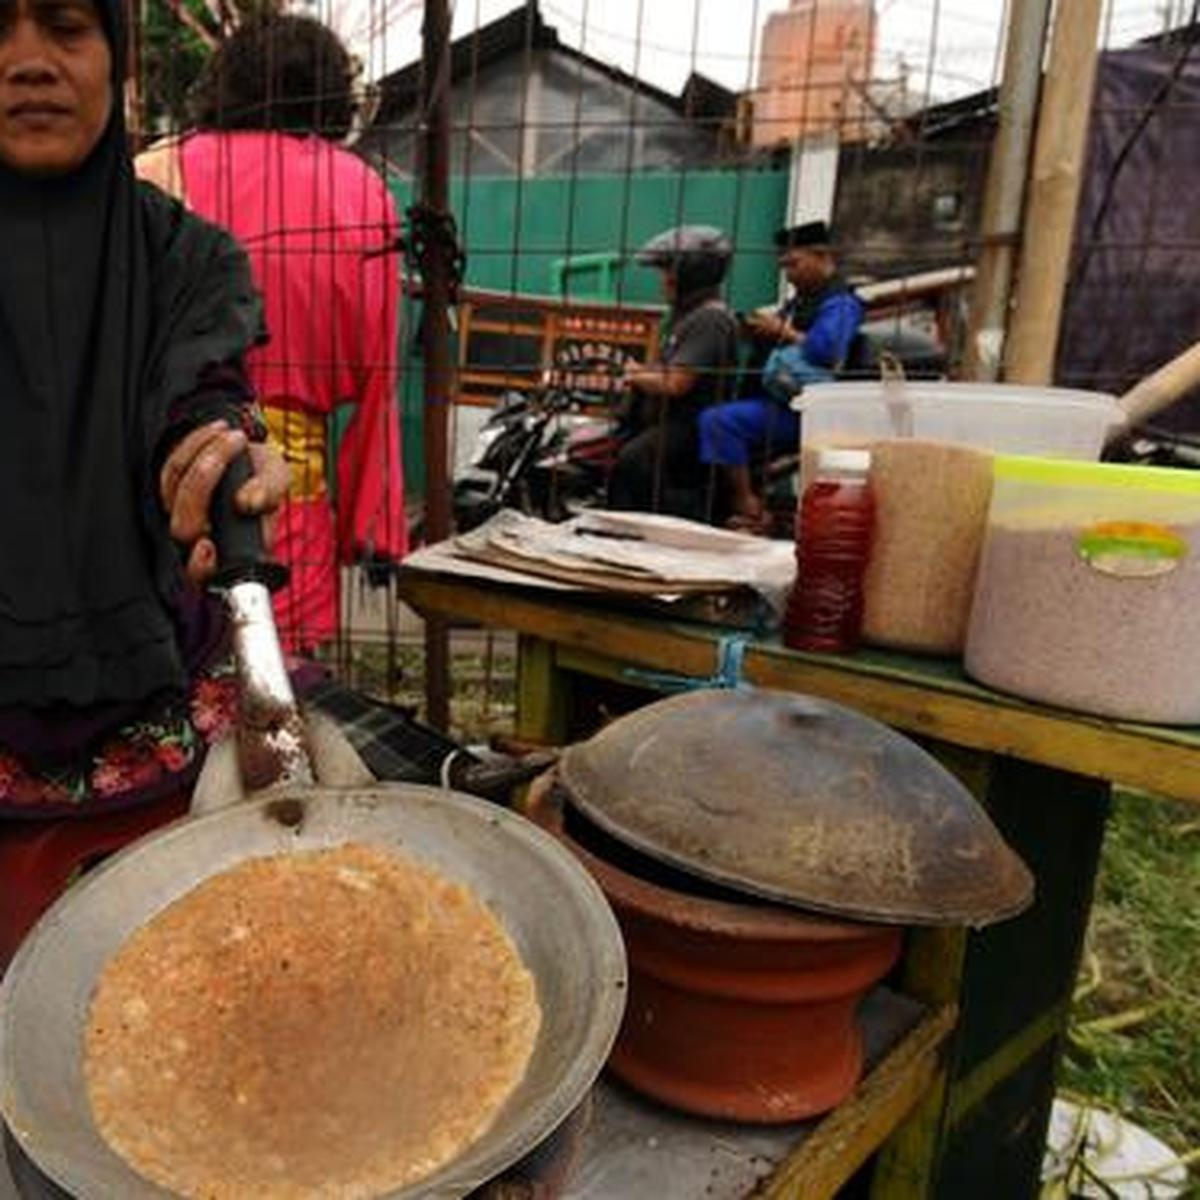kerak_telor: (85, 841, 544, 1200)
